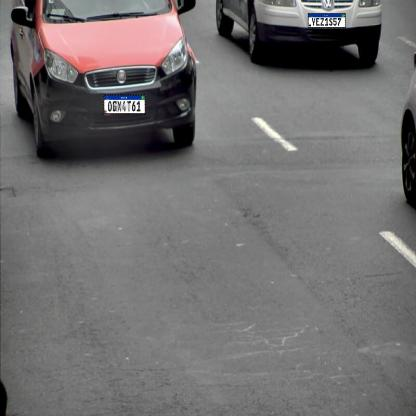PlacaM: (104, 94, 146, 115), (308, 13, 346, 28)
